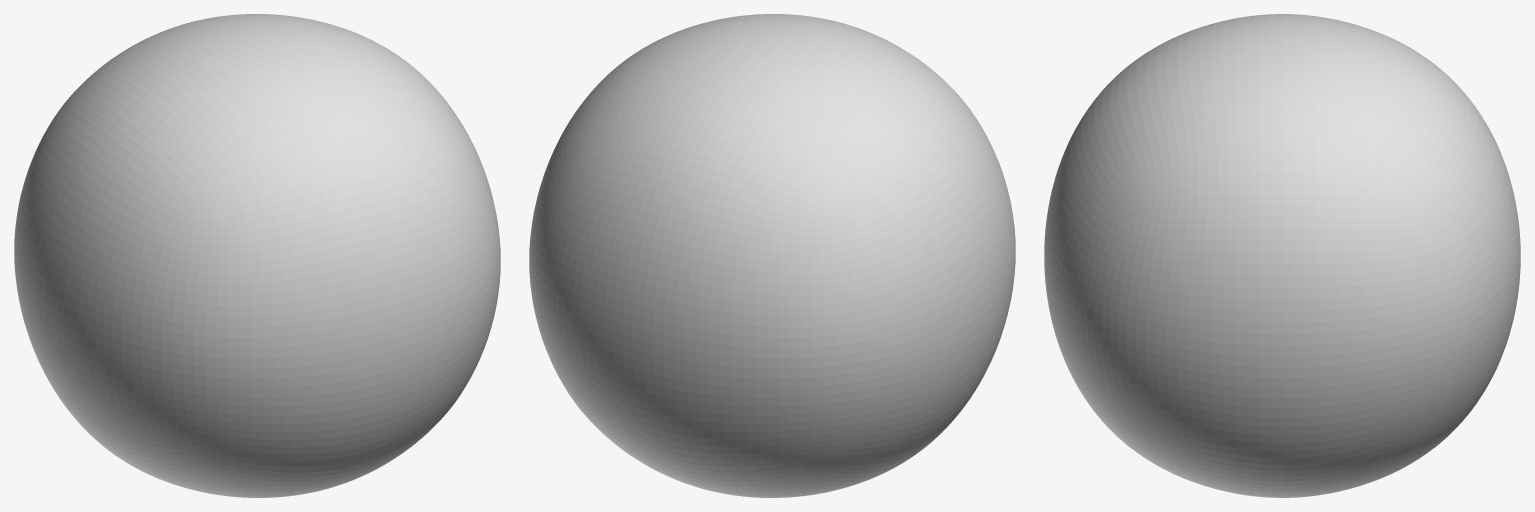
The model's file is DeathParticles.obj.
3 renders of one model, left to right at view 1: azimuth 30°, elevation 25°; view 2: azimuth 150°, elevation 25°; view 3: azimuth 270°, elevation 25°, orthographic.
Parts seen in each view (by area): view 1: Cube; view 2: Cube; view 3: Cube.
Part boxes in pixels (x1=…): Cube: x1=14, y1=14, x2=500, y2=497; Cube: x1=529, y1=14, x2=1015, y2=497; Cube: x1=1044, y1=14, x2=1520, y2=497.
Bounding box in the file's own units: 0.4079 × 0.4079 × 0.4079.
1 material, 1 textured.
